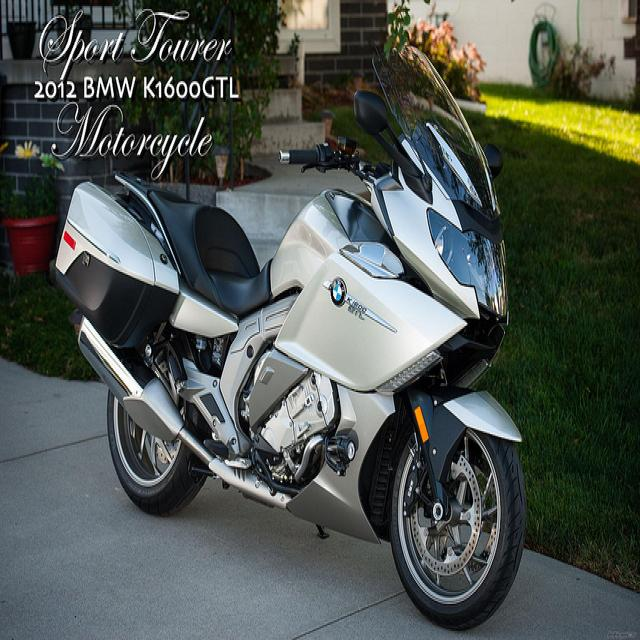motor: (48, 40, 529, 630)
